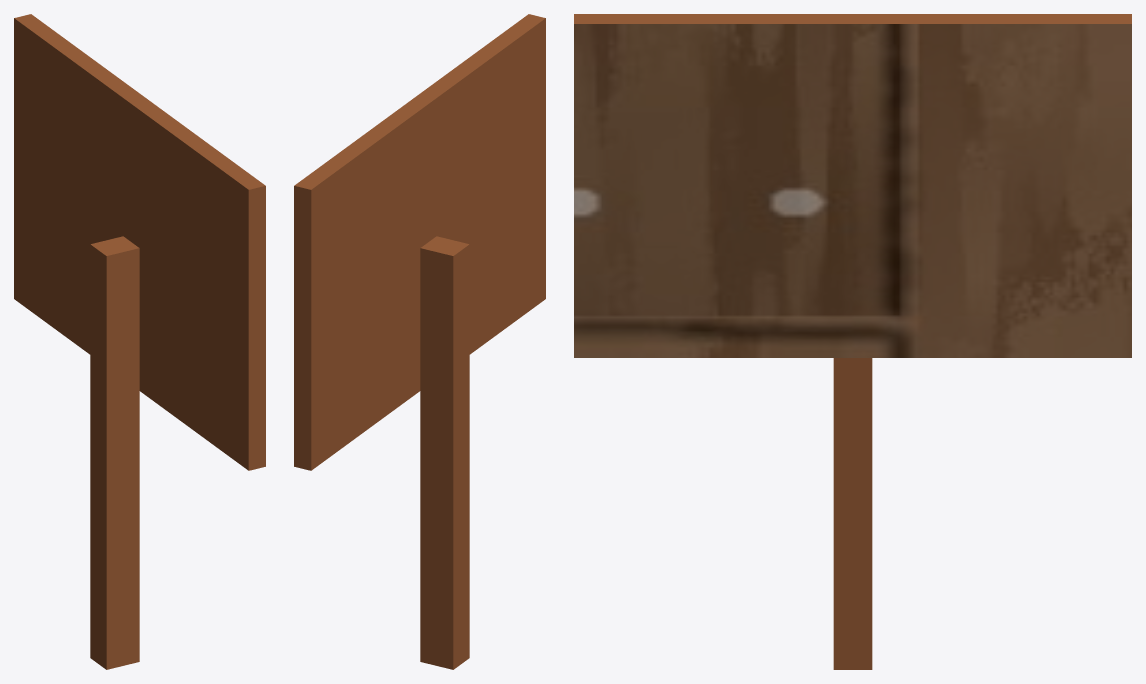
File: SignYes.fbx
3 views of the same model, side by side, from view 1: azimuth 30°, elevation 25°; view 2: azimuth 150°, elevation 25°; view 3: azimuth 270°, elevation 25° (orthographic). The views are drawn at different scales.
Visible parts, largest first — view 1: Cube; view 2: Cube; view 3: Cube.
Part boxes in pixels (<box>): Cube: <box>14,14,265,669</box>; Cube: <box>294,14,545,669</box>; Cube: <box>574,14,1131,669</box>.
Size of the model in its own units: 51.72 by 545 by 420.
Materials: 2 (1 with a texture image).
